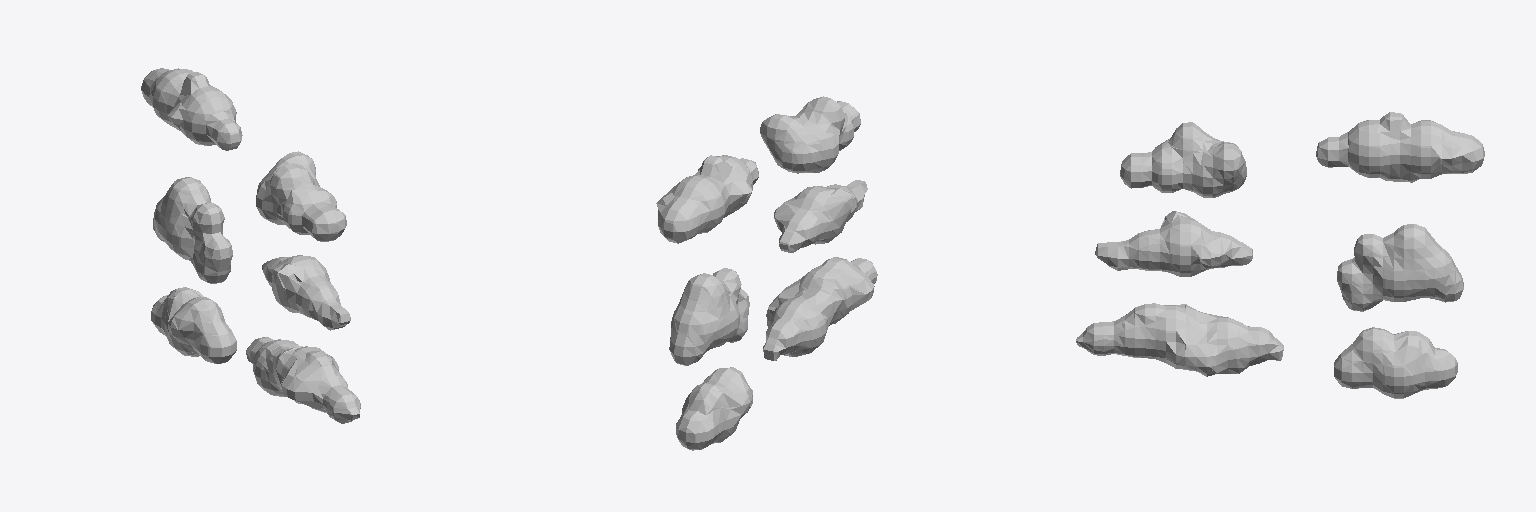
The model's file is Clouds.obj.
The picture shows the model from 3 angles: view 1: azimuth 30°, elevation 25°; view 2: azimuth 150°, elevation 25°; view 3: azimuth 270°, elevation 25°; orthographic projection.
Parts seen in each view (by area): view 1: Clouds; view 2: Clouds; view 3: Clouds.
Boxes of the visible parts, x1,y1,x2,y2 form: Clouds: [141, 68, 360, 423]; Clouds: [656, 96, 877, 450]; Clouds: [1076, 112, 1484, 398].
Size of the model in its own units: 3.32 by 12.04 by 15.88.